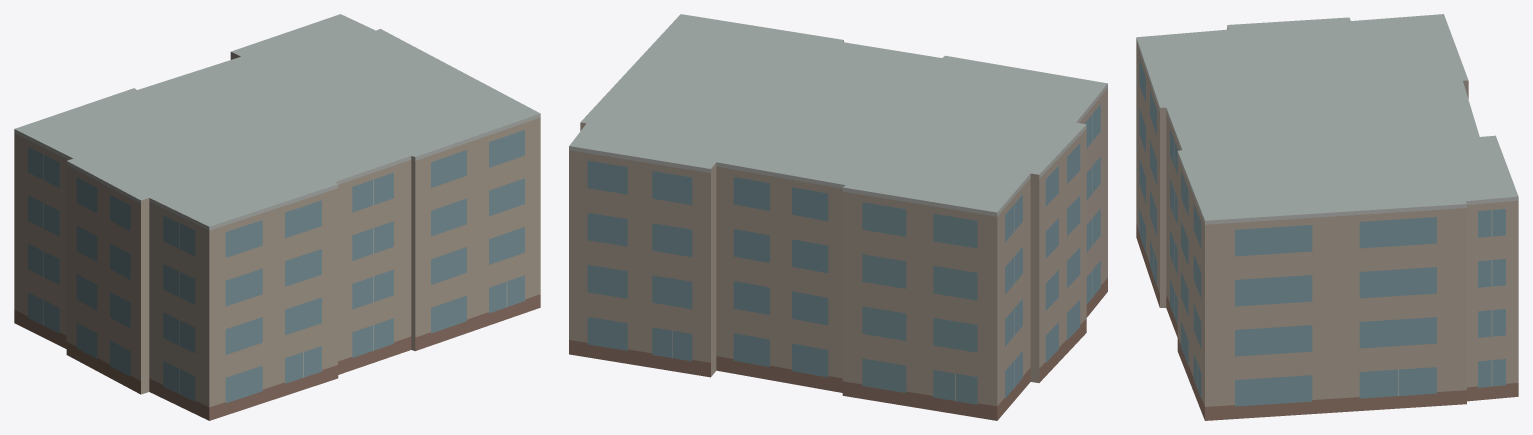
File: survey-upis-32713484.glb
3 renders of one model, left to right at view 1: azimuth 30°, elevation 25°; view 2: azimuth 150°, elevation 25°; view 3: azimuth 270°, elevation 25°, orthographic. The views are drawn at different scales.
Visible parts, largest first — view 1: survey-upis-32713484.tmp; view 2: survey-upis-32713484.tmp; view 3: survey-upis-32713484.tmp.
Part boxes in pixels (x1,y1,x2,y2): survey-upis-32713484.tmp: (14,14,540,420); survey-upis-32713484.tmp: (569,14,1107,420); survey-upis-32713484.tmp: (1136,14,1518,420).
Bounding box in the file's own units: 27.03 × 12.2 × 21.12.
